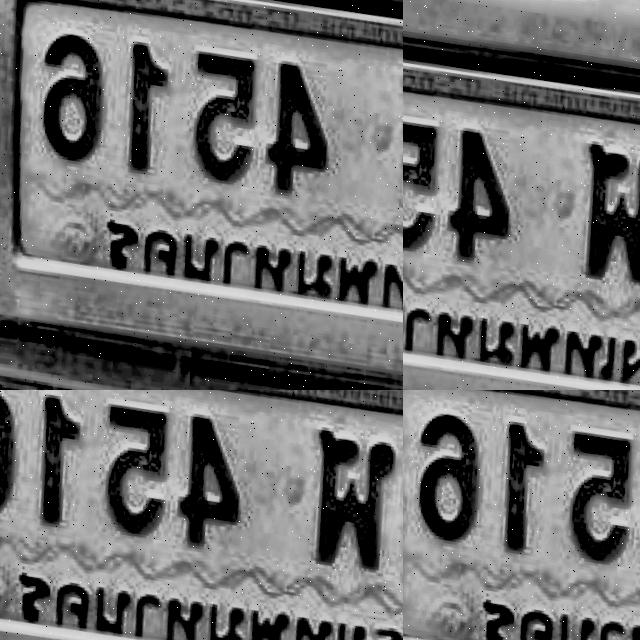license-plate: (403, 390, 640, 640), (141, 0, 403, 170)
